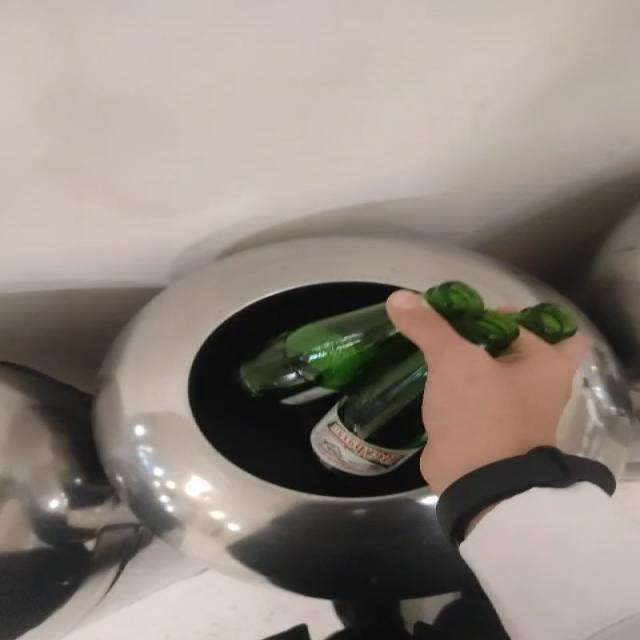Glass: (239, 303, 427, 476), (427, 283, 579, 357)
